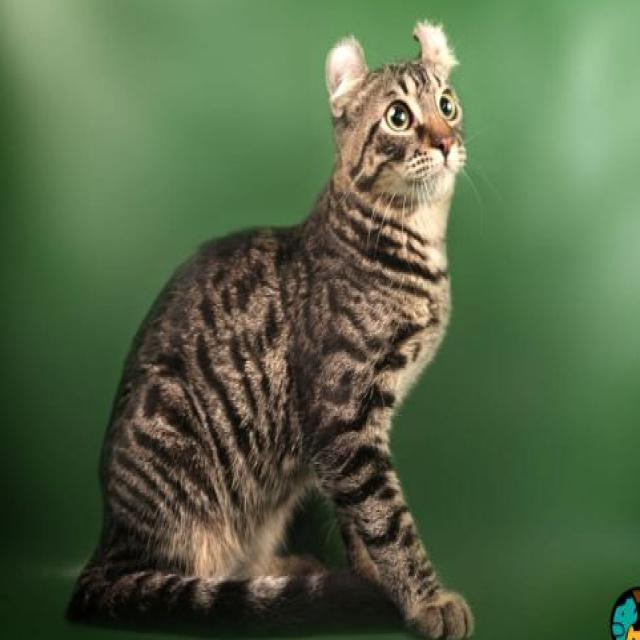American Curl: (63, 16, 479, 640)
